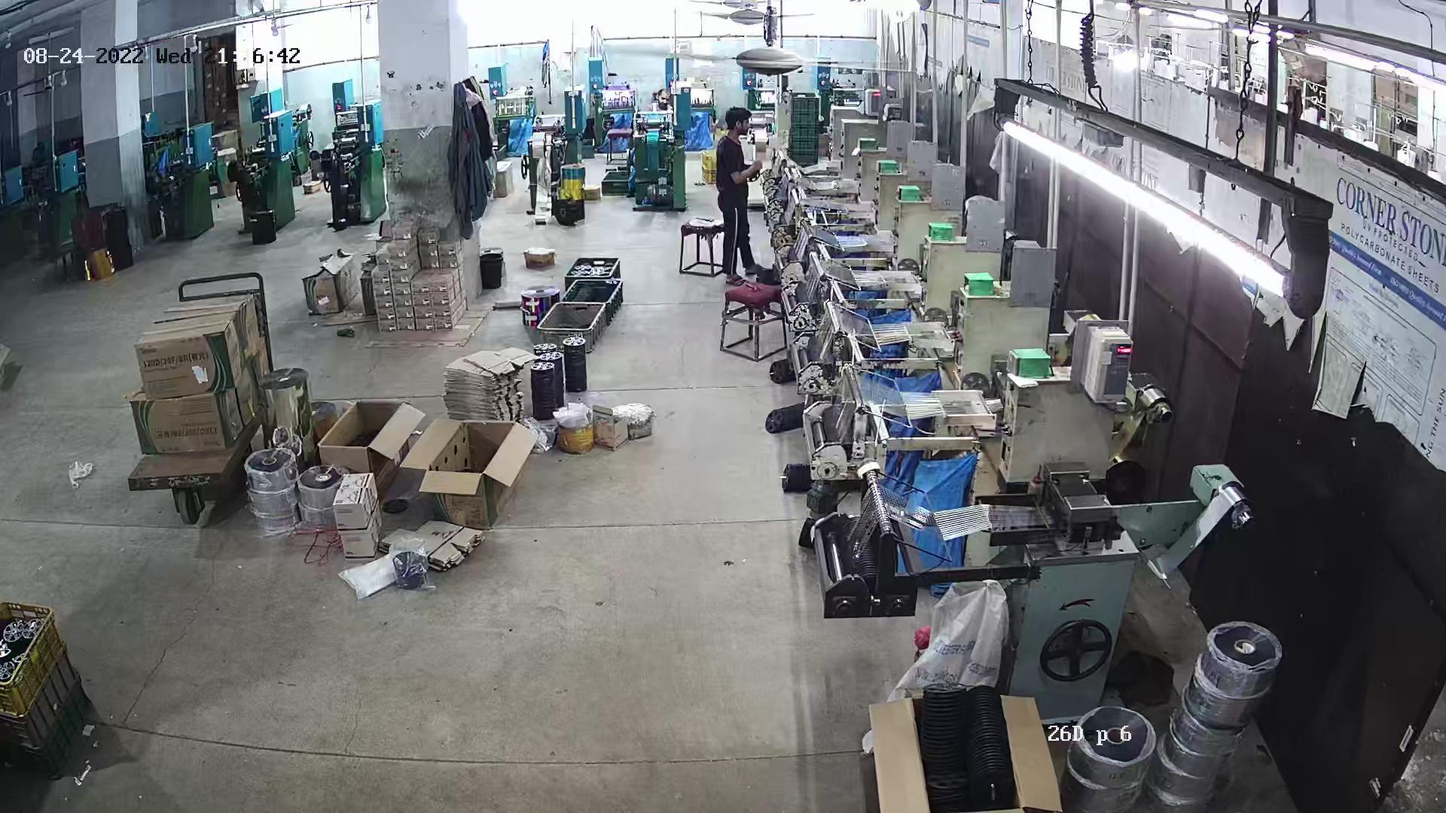person: (714, 99, 766, 276)
